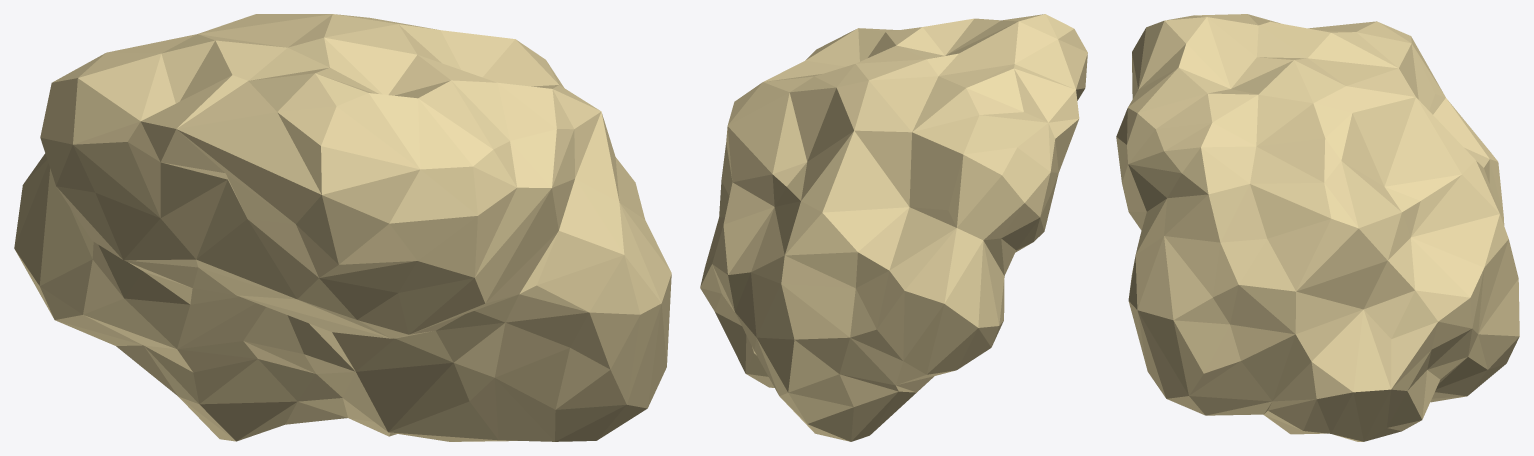
Rendered from Asteroid (50).fbx.
The picture shows the model from 3 angles, left to right: view 1: azimuth 30°, elevation 25°; view 2: azimuth 150°, elevation 25°; view 3: azimuth 270°, elevation 25°; orthographic projection. The views are drawn at different scales.
Visible parts, largest first — view 1: Asteroid100; view 2: Asteroid100; view 3: Asteroid100.
Part boxes in pixels (<box>): Asteroid100: <box>14,14,671,441</box>; Asteroid100: <box>700,14,1087,441</box>; Asteroid100: <box>1116,14,1519,441</box>.
Bounding box in the file's own units: 278 × 258 × 269.
